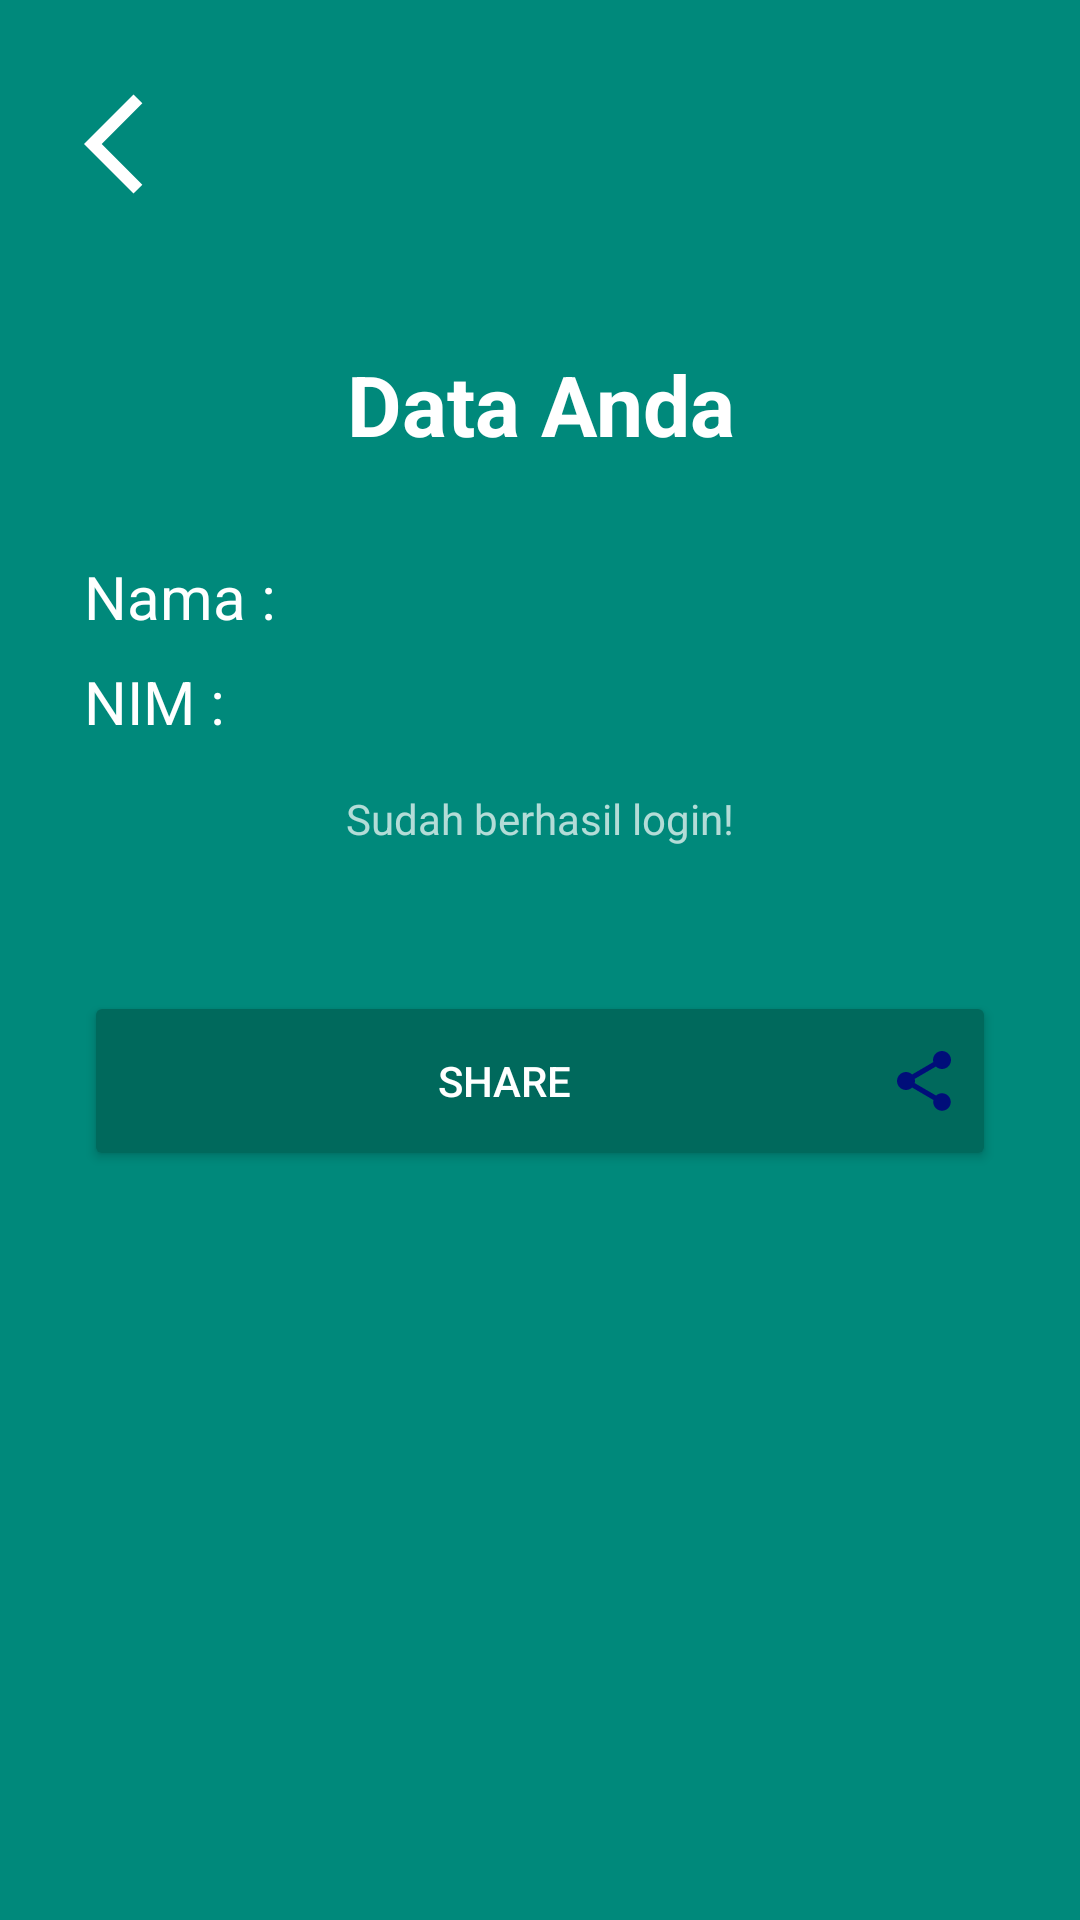

Icons on this 1080*1920 Android screen, each with its box as (x1, y1, x2, y2):
Tombol back: (84, 94, 143, 194)
